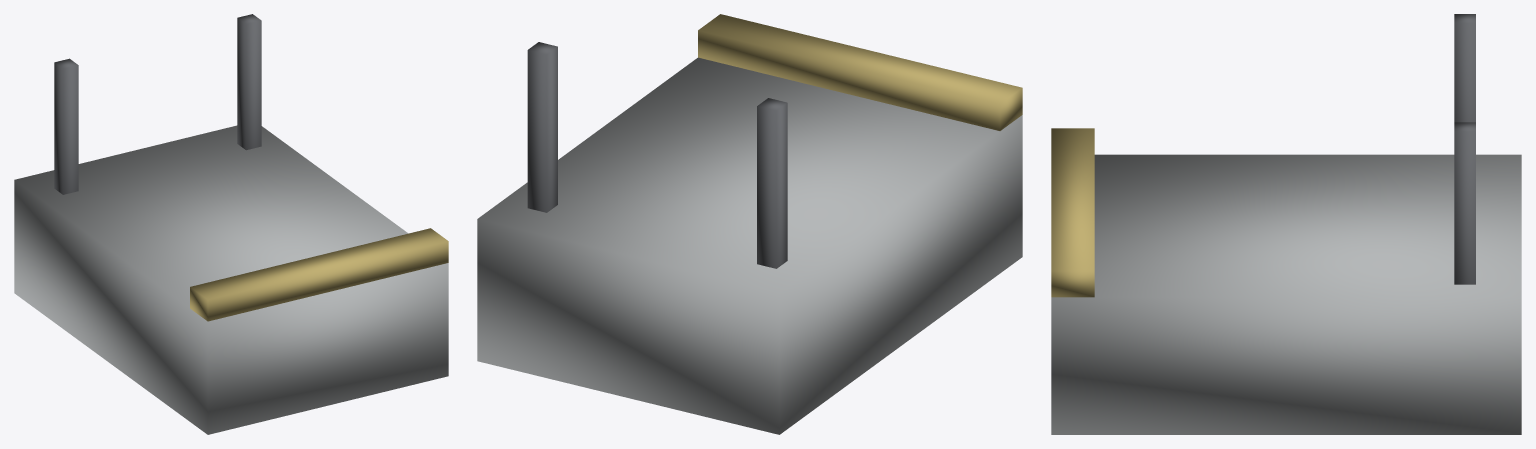
The model's file is loading_dock_17.glb.
The picture shows the model from 3 angles, left to right: view 1: azimuth 30°, elevation 25°; view 2: azimuth 150°, elevation 25°; view 3: azimuth 270°, elevation 25°; orthographic projection. The views are drawn at different scales.
Visible parts, largest first — view 1: world; view 2: world; view 3: world.
Part boxes in pixels (x1,y1,x2,y2): world: (14, 14, 448, 434); world: (477, 14, 1022, 434); world: (1051, 14, 1521, 434).
Bounding box in the file's own units: 1.4 × 1.33 × 1.95.
